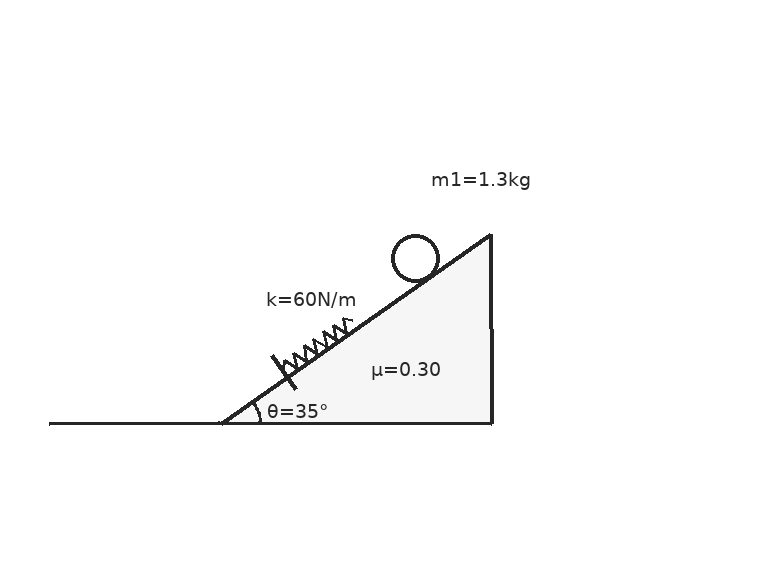ball: (389, 232, 441, 284)
ramp: (218, 233, 492, 426)
spring: (280, 316, 355, 371)
